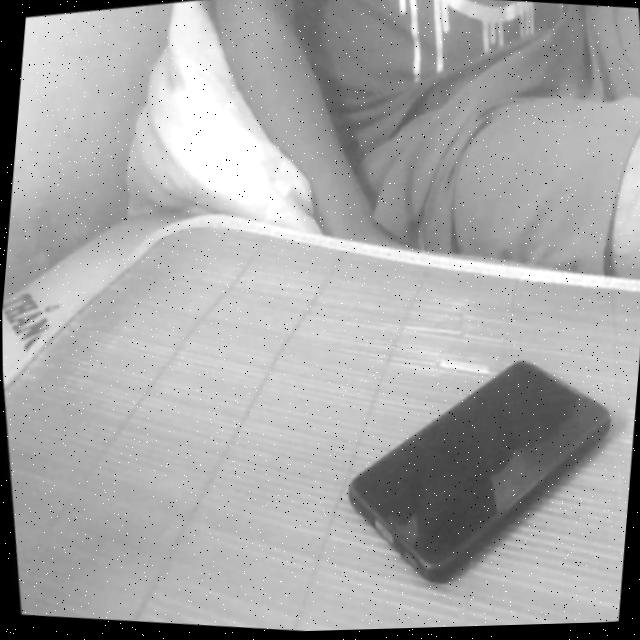phone: (316, 317, 640, 621)
